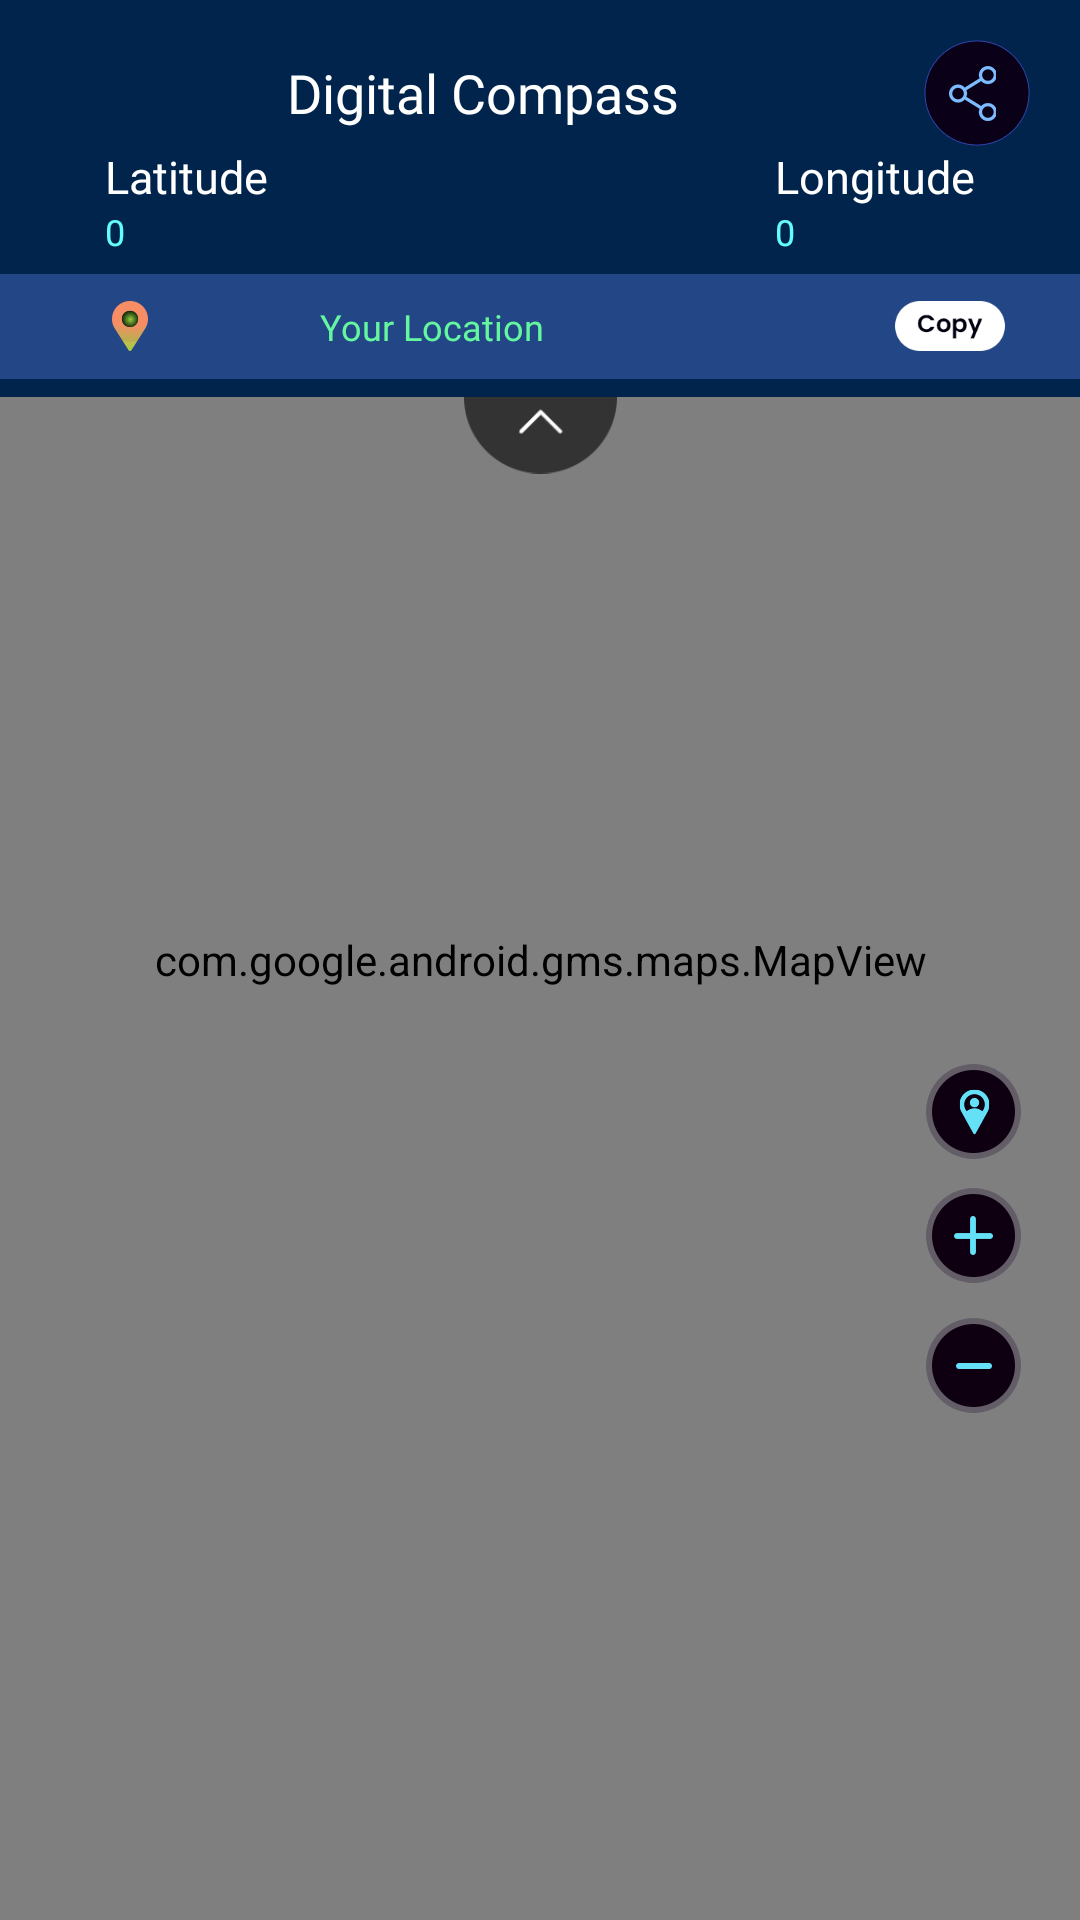

Named icons in this screenshot (1080 × 1920) and their bounding boxes, (x1, y1, x2, y2):
digital location: (112, 301, 148, 351)
digital location unpress: (926, 1064, 1021, 1159)
digital share unpress: (924, 40, 1030, 146)
digital up: (464, 397, 617, 474)
digital zoom in unpress: (926, 1188, 1021, 1283)
digital zoom out unpress: (926, 1318, 1021, 1413)
